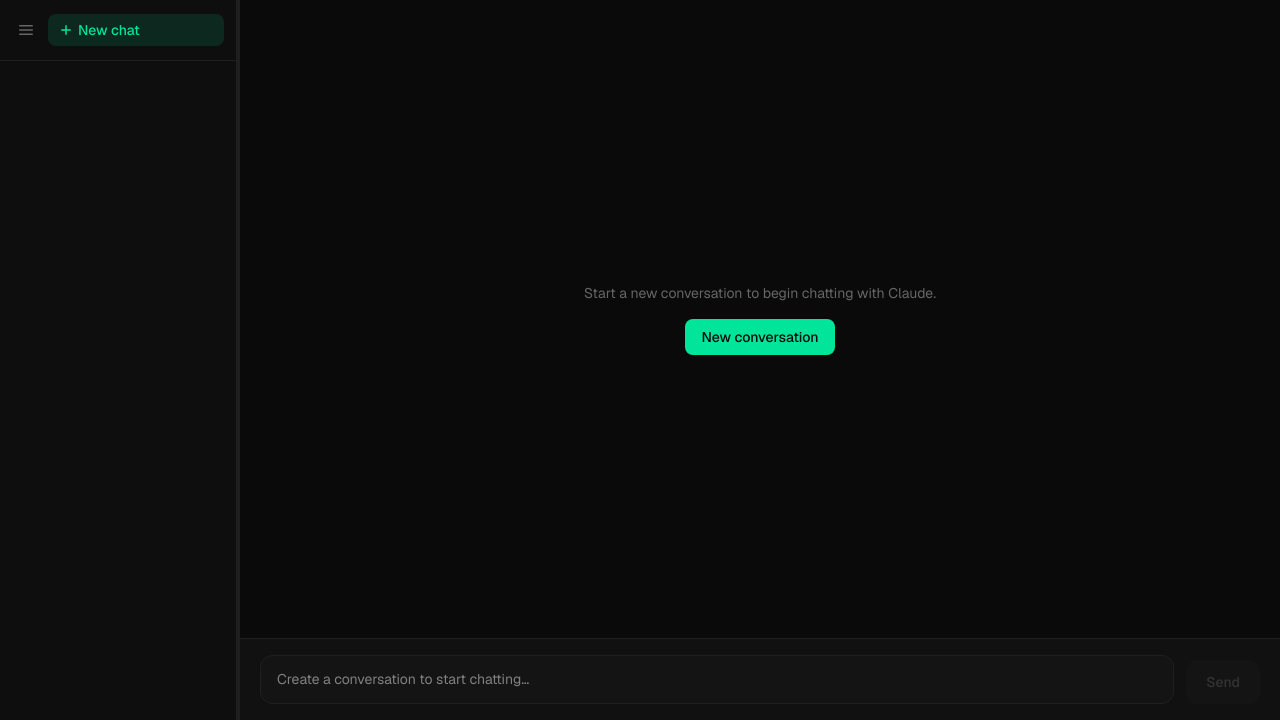
it: ChatView › clicking new conversation creates a chat
Click the button with test id "new-conversation-button" at (136, 30), box [48,14,224,46]
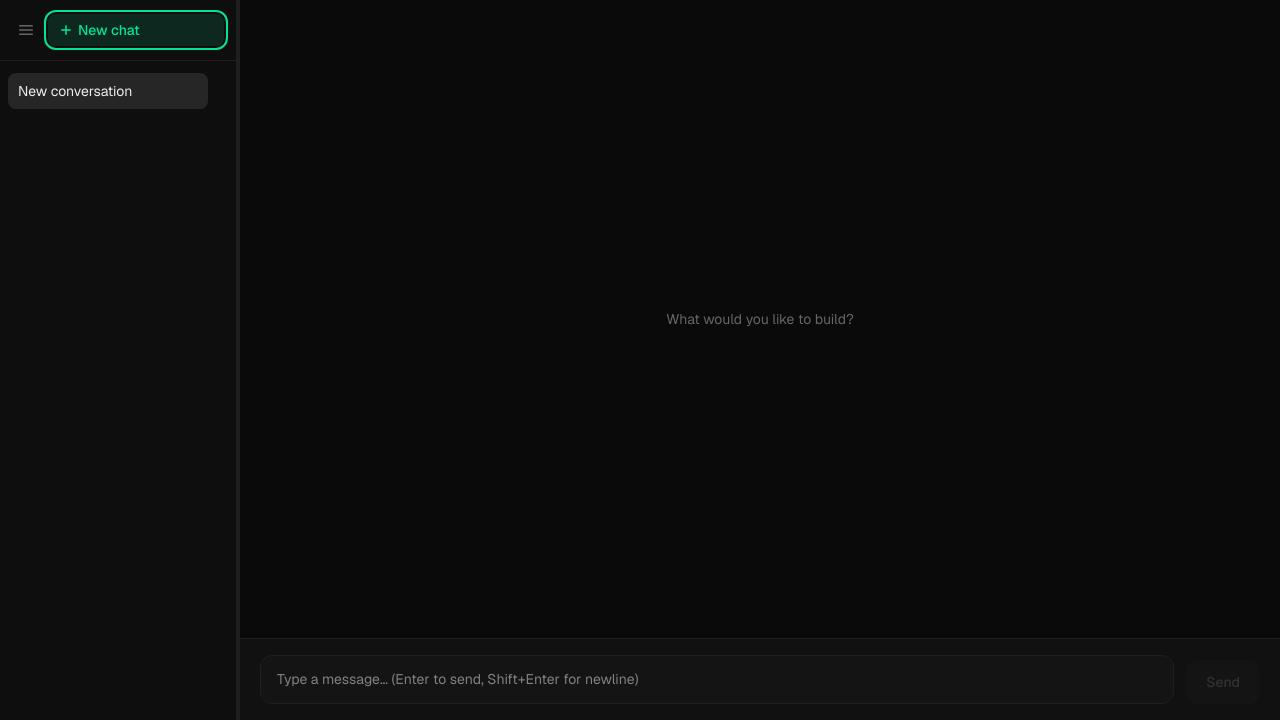
Expected: the element with test id "conversation-sidebar" shows "New conversation", [8,73,208,109]
